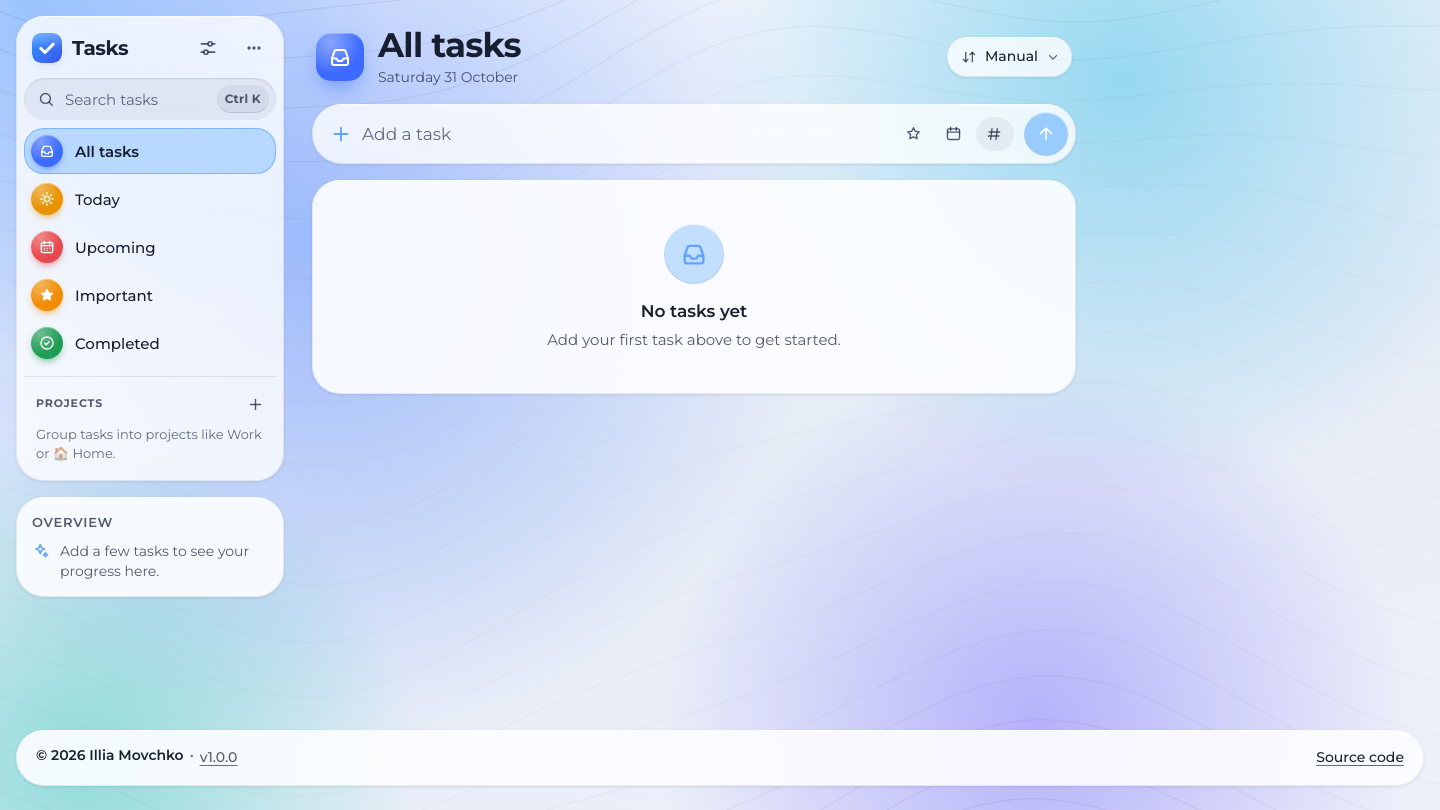
it: Composer › sets a due date and importance for new tasks
Click the button named "Due date" at point(953, 134), box [936,117,970,151]
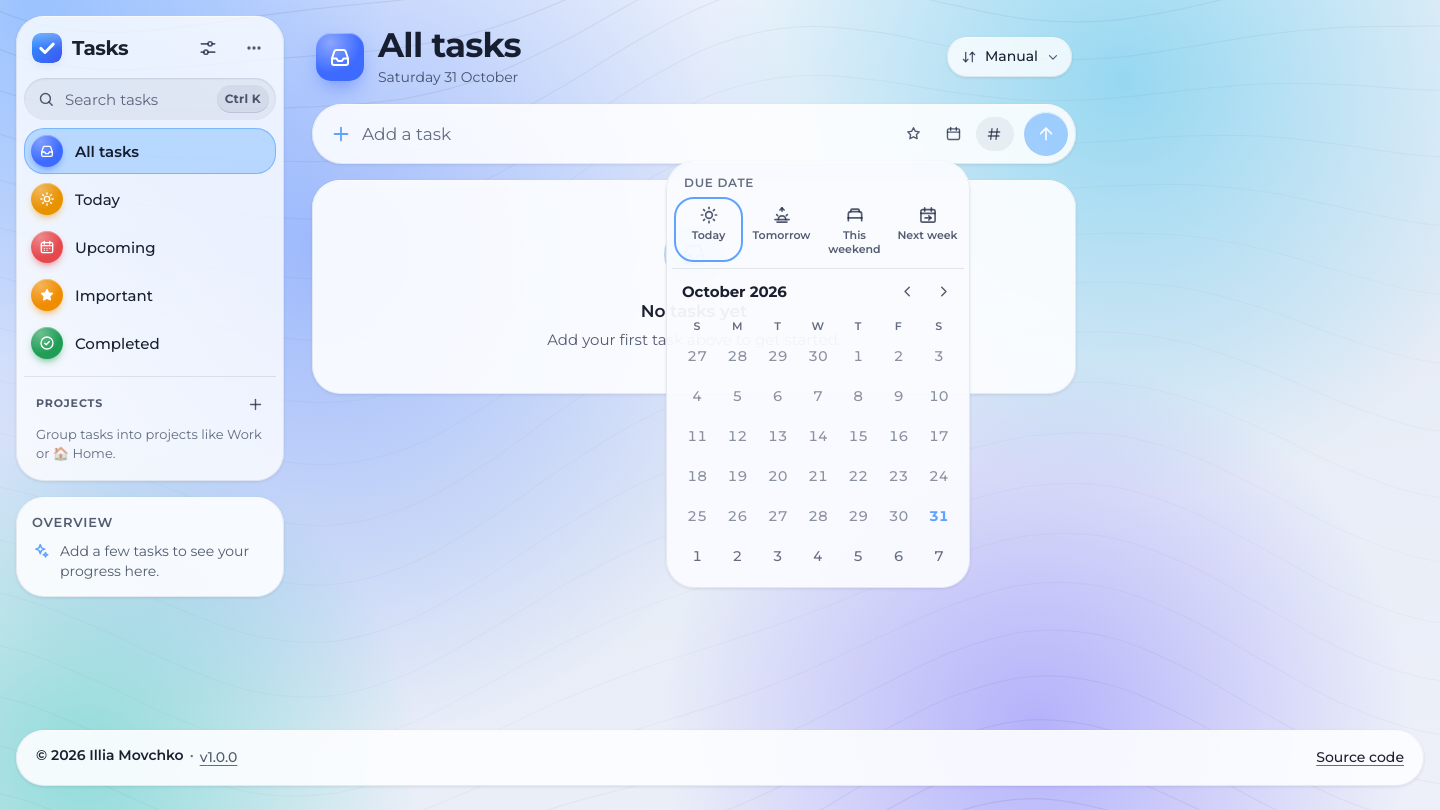
Click the button "Tomorrow" at point(782, 230), box [747,198,816,262]
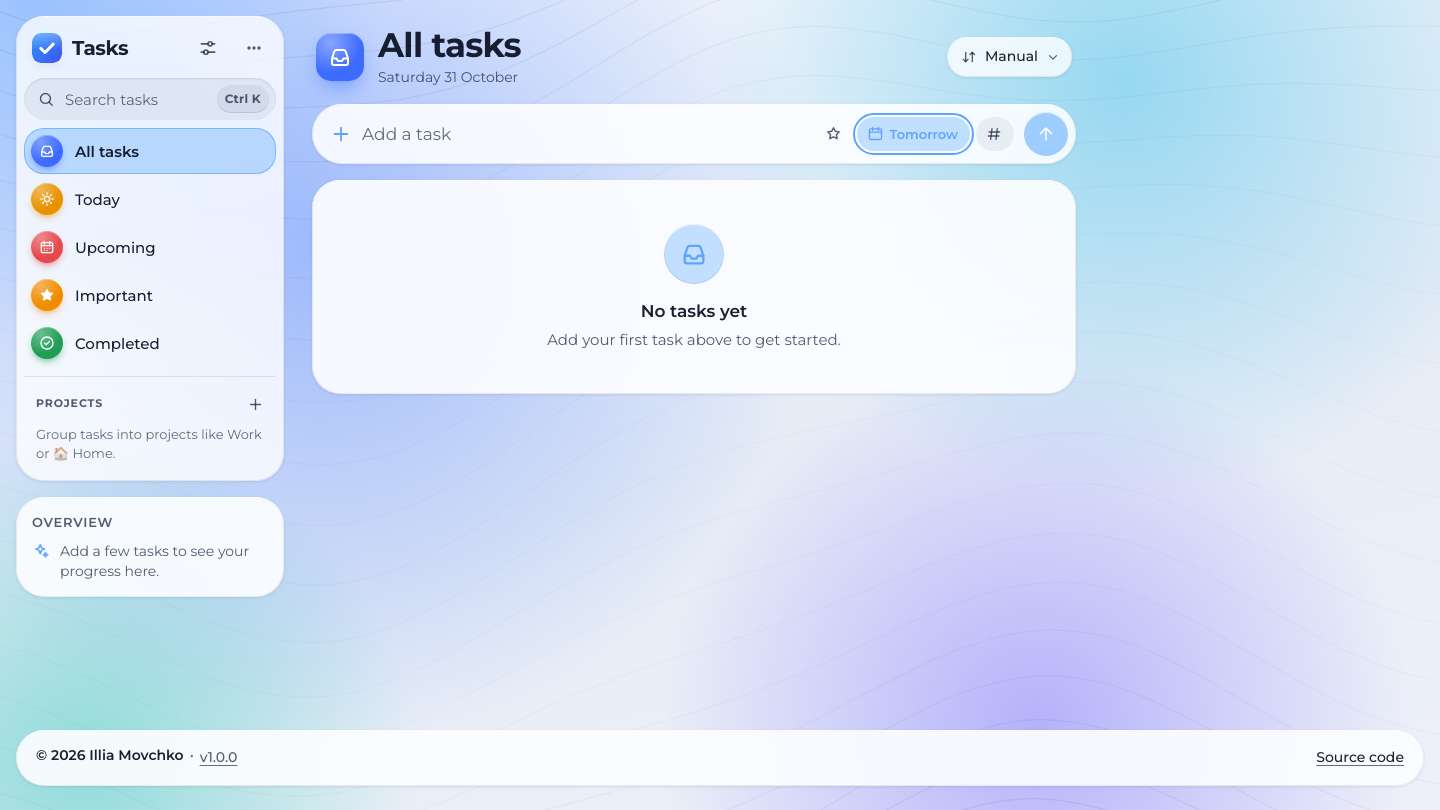
Click the button named "Important" at point(834, 134), box [816,117,850,151]
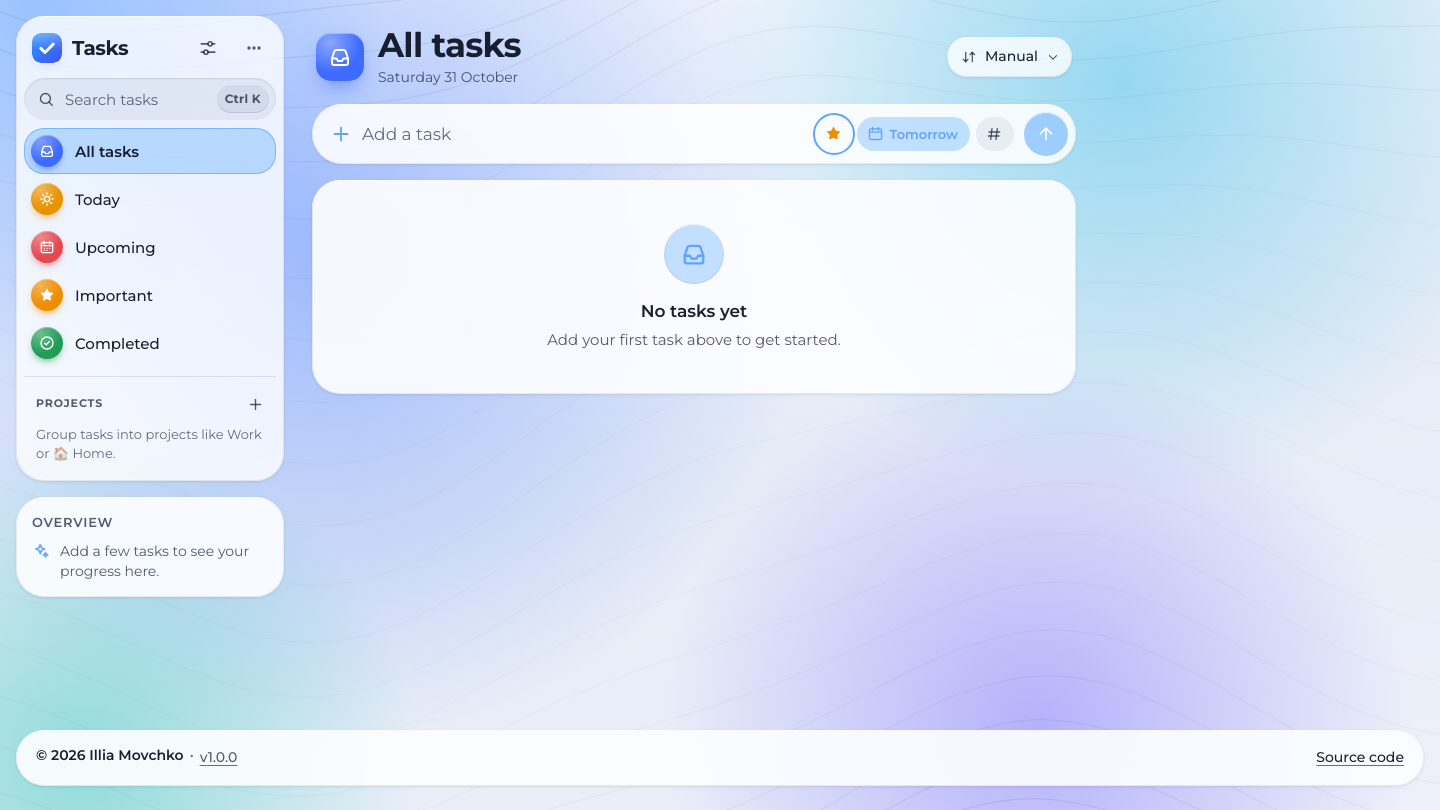
Type "Renew passport" into the field named "New task" at point(584, 134), box [362,112,806,156]
Then press Enter
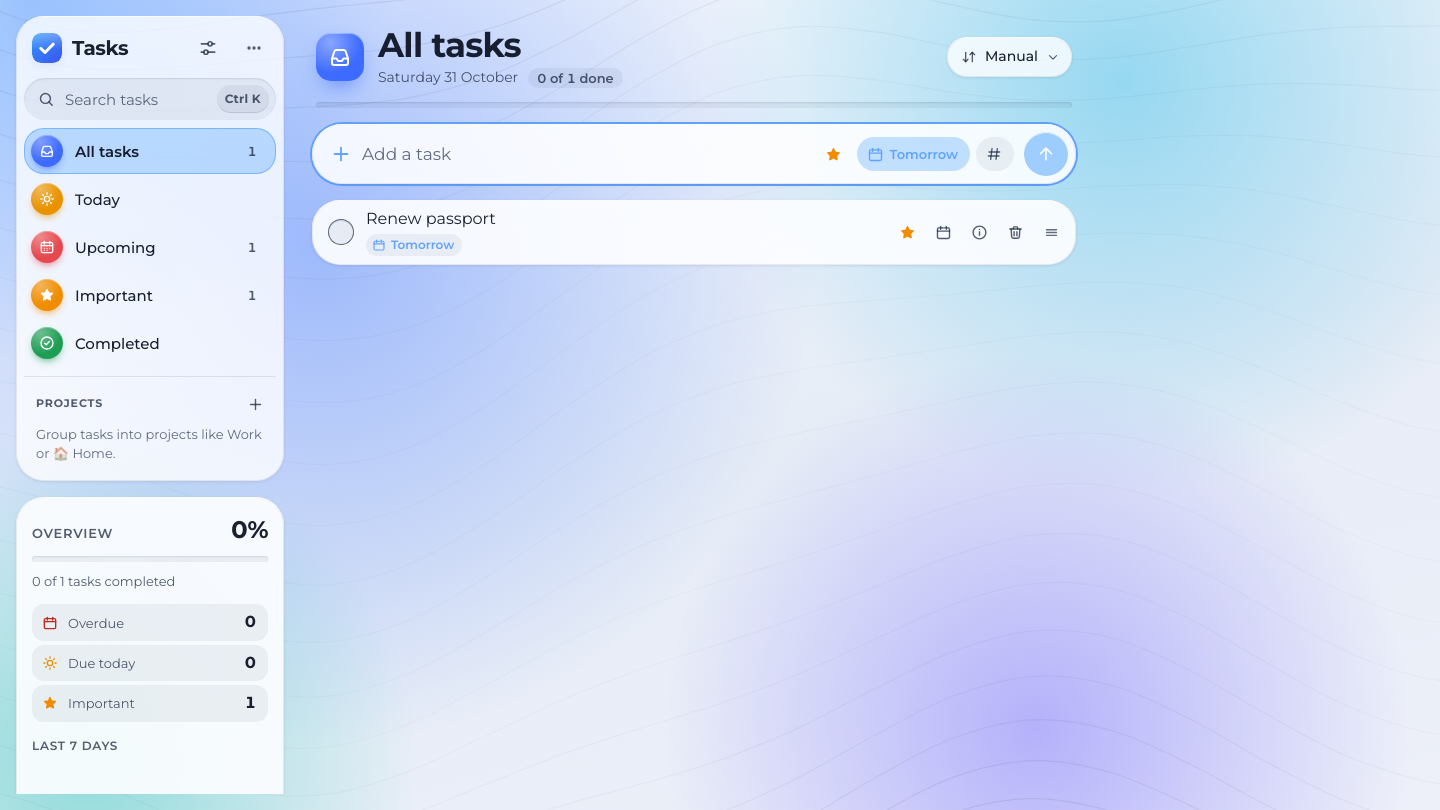
Check: the 2nd text "Tomorrow" is shown, box [391,237,454,254]
